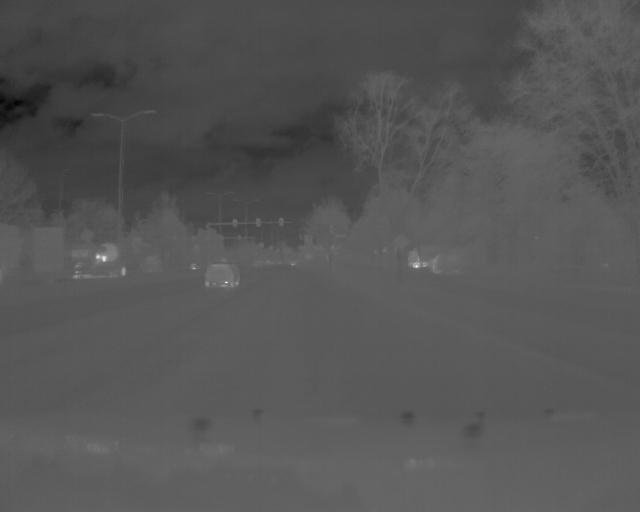car: (202, 258, 241, 290)
